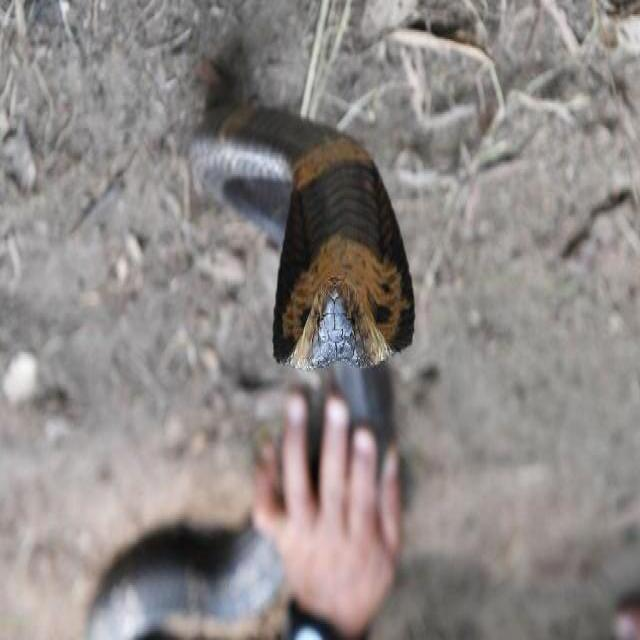Venomous: (272, 134, 435, 376)
